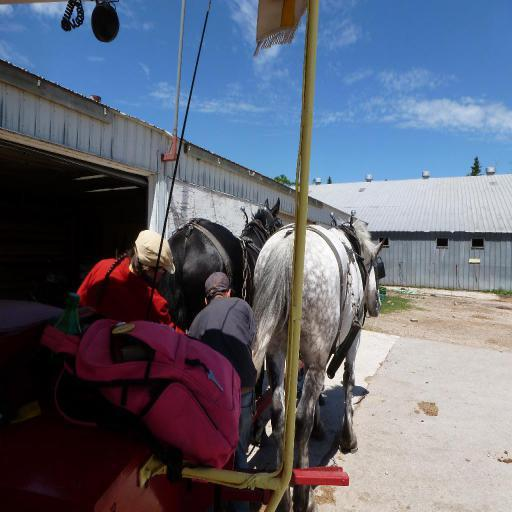Horse: (252, 214, 383, 512), (166, 196, 282, 446)
